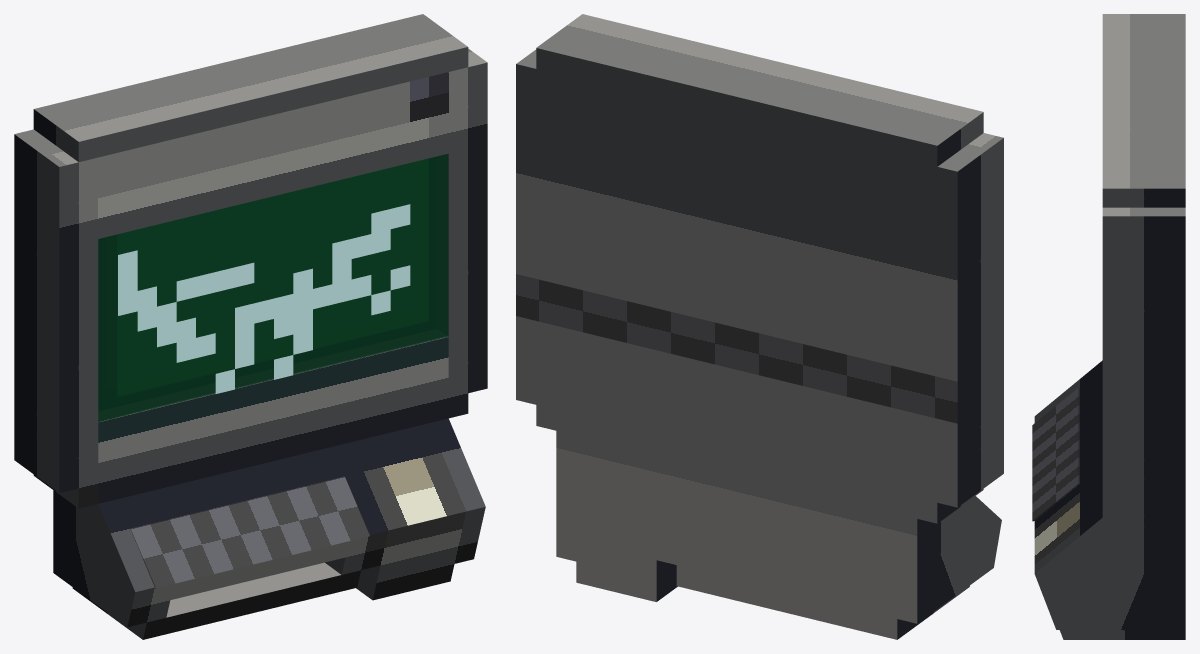
File: newscaster_off_crack_2.glb
The picture shows the model from 3 angles, left to right: view 1: azimuth 30°, elevation 25°; view 2: azimuth 150°, elevation 25°; view 3: azimuth 270°, elevation 25°; orthographic projection. The views are drawn at different scales.
Visible parts, largest first — view 1: Continuous_Housing, Recessed_Display_Glass, Damage_Overlay, Keyboard_Panel; view 2: Continuous_Housing; view 3: Continuous_Housing, Keyboard_Panel.
Part boxes in pixels (left/top/right/bottom): Continuous_Housing: left=14, top=14, right=487, bottom=639; Recessed_Display_Glass: left=98, top=153, right=448, bottom=421; Damage_Overlay: left=118, top=204, right=410, bottom=393; Keyboard_Panel: left=130, top=476, right=369, bottom=588; Continuous_Housing: left=516, top=14, right=1003, bottom=639; Continuous_Housing: left=1034, top=14, right=1185, bottom=639; Keyboard_Panel: left=1032, top=387, right=1079, bottom=521.
Bounding box in the file's own units: 0.6188 × 0.7031 × 0.2081.
3 materials, 3 textured.
